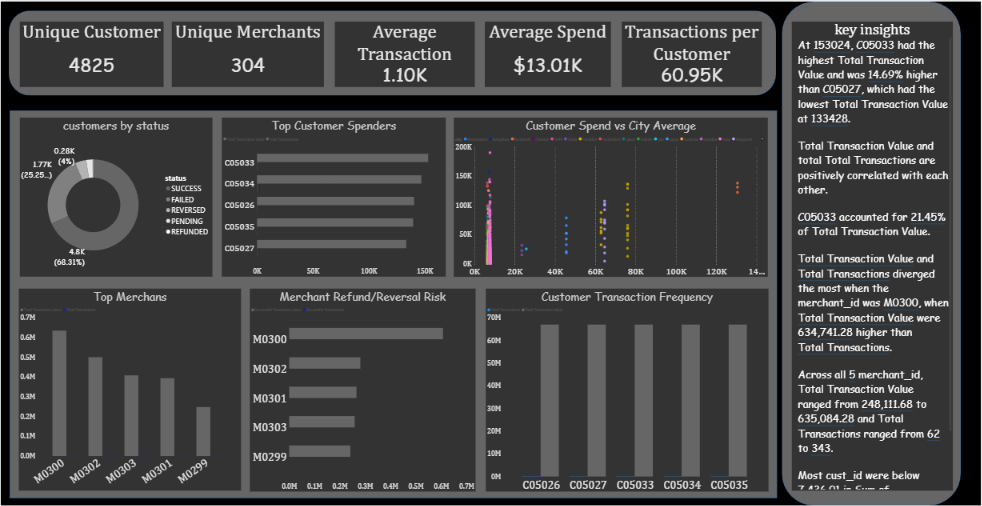

What the dashboard file says about the page in this screenshot:
{"tool":"powerbi","page":{"name":"Customer & Merchant Intelligence","canvas":[2800,1800],"ordinal":2},"visuals":[{"type":"shape","box":[32,388,2740,1384],"z":0},{"type":"shape","box":[30,33.3,2740,303.3],"z":1000},{"type":"donutChart","title":"customers by status","fields":{"Y":["Count(digital_payments_analytics payment_transactions.cust_id)"],"Category":["digital_payments_analytics payment_transactions.status"]},"box":[68,416,688,568],"z":2000},{"type":"card","title":"Unique Customer","fields":{"Values":["Count(digital_payments_analytics payment_transactions.cust_id)"]},"box":[66.7,70,513.3,233.3],"z":3000},{"type":"card","title":"Unique Merchants","fields":{"Values":["Count(digital_payments_analytics payment_transactions.merchant_id)"]},"box":[610,70,543.3,233.3],"z":8000},{"type":"card","title":"Average Transaction","fields":{"Values":["digital_payments_analytics payment_transactions.Average Transaction Value"]},"box":[1193.3,70,500,233.3],"z":9000},{"type":"card","title":"Average Spend","fields":{"Values":["digital_payments_analytics payment_transactions.Average Customer Spend"]},"box":[1730,70,450,233.3],"z":10000},{"type":"card","title":"Transactions per Customer","fields":{"Values":["Count(digital_payments_analytics payment_transactions.txn_id)"]},"box":[2216.7,70,500,233.3],"z":11000},{"type":"clusteredColumnChart","title":"Customer Transaction Frequency","fields":{"Category":["Q16_Customer_City_Spend.cust_id"],"Y":["digital_payments_analytics payment_transactions.Total Transactions","digital_payments_analytics payment_transactions.Total Transaction Value"]},"box":[1731.2,1025,1009.4,725],"z":12000},{"type":"clusteredBarChart","title":"Merchant Refund/Reversal Risk","fields":{"Category":["digital_payments_analytics payment_transactions.merchant_id"],"Y":["digital_payments_analytics payment_transactions.Successful Transaction Value","digital_payments_analytics payment_transactions.Successful Transactions"]},"box":[887.5,1025,806.2,725],"z":13000},{"type":"clusteredColumnChart","title":"Top Merchans","fields":{"Y":["digital_payments_analytics payment_transactions.Total Transaction Value","digital_payments_analytics payment_transactions.Total Transactions"],"Category":["digital_payments_analytics payment_transactions.merchant_id"]},"box":[65.6,1025,793.8,721.9],"z":14000},{"type":"clusteredBarChart","title":"Top Customer Spenders","fields":{"Category":["digital_payments_analytics payment_transactions.cust_id"],"Y":["digital_payments_analytics payment_transactions.Total Transaction Value","digital_payments_analytics payment_transactions.Total Transactions"]},"box":[788,416,800,568],"z":15000},{"type":"scatterChart","title":"Customer Spend vs City Average","fields":{"X":["Sum(Q16_Customer_City_Spend.city_average)"],"Y":["Sum(Q16_Customer_City_Spend.spend)"],"Series":["Q16_Customer_City_Spend.city"],"Category":["Q16_Customer_City_Spend.cust_id"]},"box":[1618.8,415.6,1121.9,568.8],"z":16000}]}

Visuals, with their boxes in screenshot pixels (x1, y1, x2, y2):
shape: bbox=[0, 101, 787, 499]
shape: bbox=[0, 0, 786, 87]
"customers by status" donutChart: bbox=[9, 109, 207, 273]
"Unique Customer" card: bbox=[9, 10, 157, 77]
"Unique Merchants" card: bbox=[165, 10, 321, 77]
"Average Transaction" card: bbox=[333, 10, 477, 77]
"Average Spend" card: bbox=[487, 10, 617, 77]
"Transactions per Customer" card: bbox=[627, 10, 771, 77]
"Customer Transaction Frequency" clusteredColumnChart: bbox=[488, 285, 778, 493]
"Merchant Refund/Reversal Risk" clusteredBarChart: bbox=[245, 285, 477, 493]
"Top Merchans" clusteredColumnChart: bbox=[9, 285, 237, 492]
"Top Customer Spenders" clusteredBarChart: bbox=[216, 109, 446, 273]
"Customer Spend vs City Average" scatterChart: bbox=[455, 109, 778, 273]
